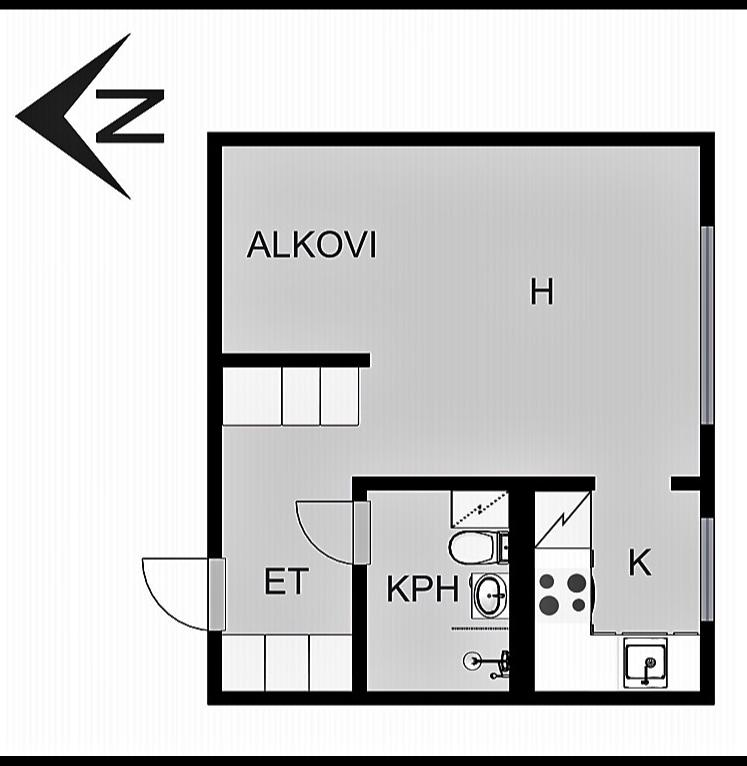door: (140, 555, 228, 636), (292, 498, 375, 567)
window: (692, 214, 720, 434), (696, 509, 720, 629)
